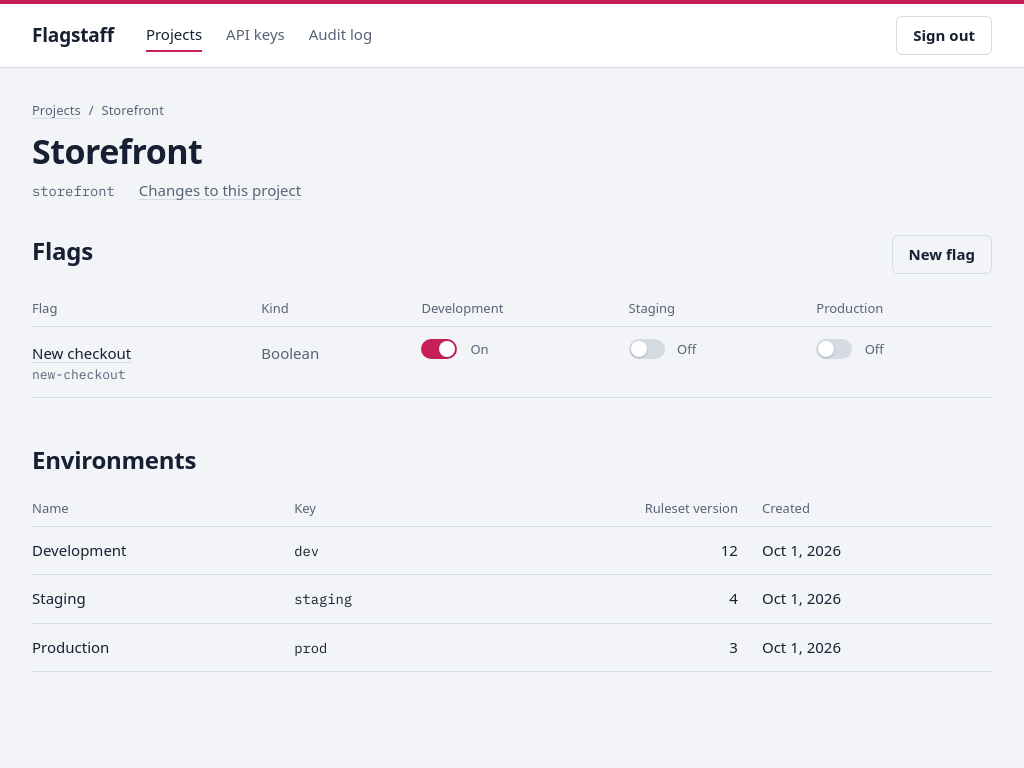
Test: switching a flag › explains a conflict and shows the flag as it is now
The width and height of the screenshot is (1024, 768).
What coordinates should you click on to do the following:
click the switch named "New checkout in Production"
I would click on:
 (852, 349)
Its box is left=816, top=339, right=888, bottom=359.
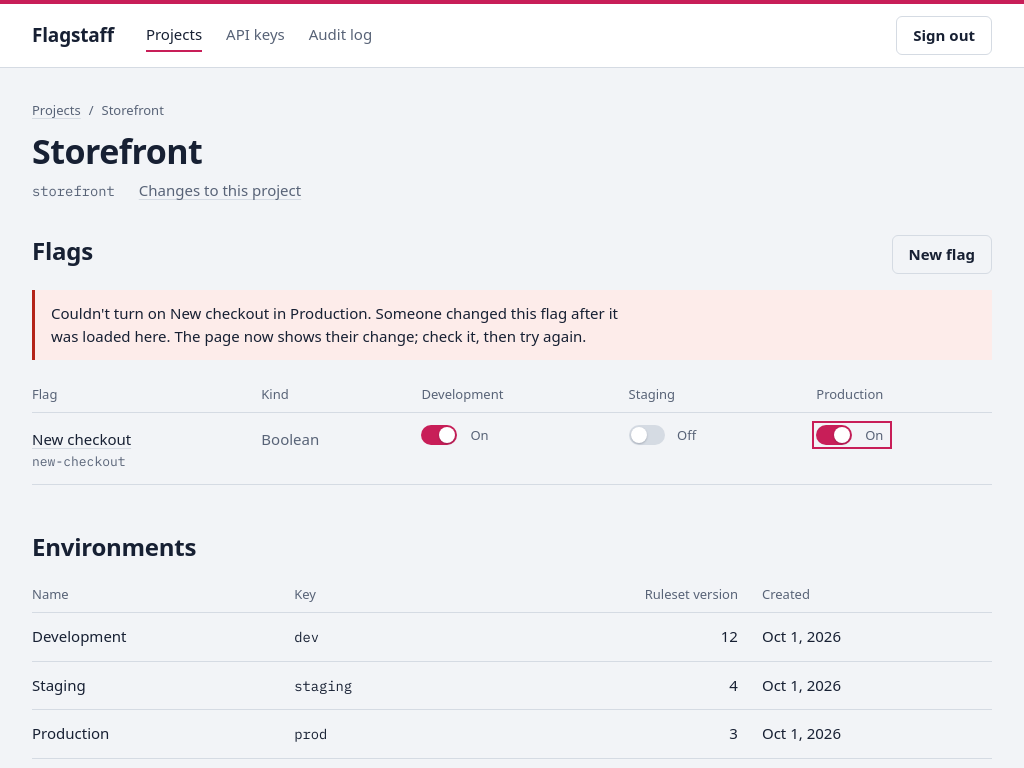
Expected: the switch named "New checkout in Production" is shown, left=816, top=425, right=888, bottom=445
Expected: the message shows "Couldn't turn on New checkout in Production. Someone changed this flag", left=51, top=303, right=618, bottom=346
